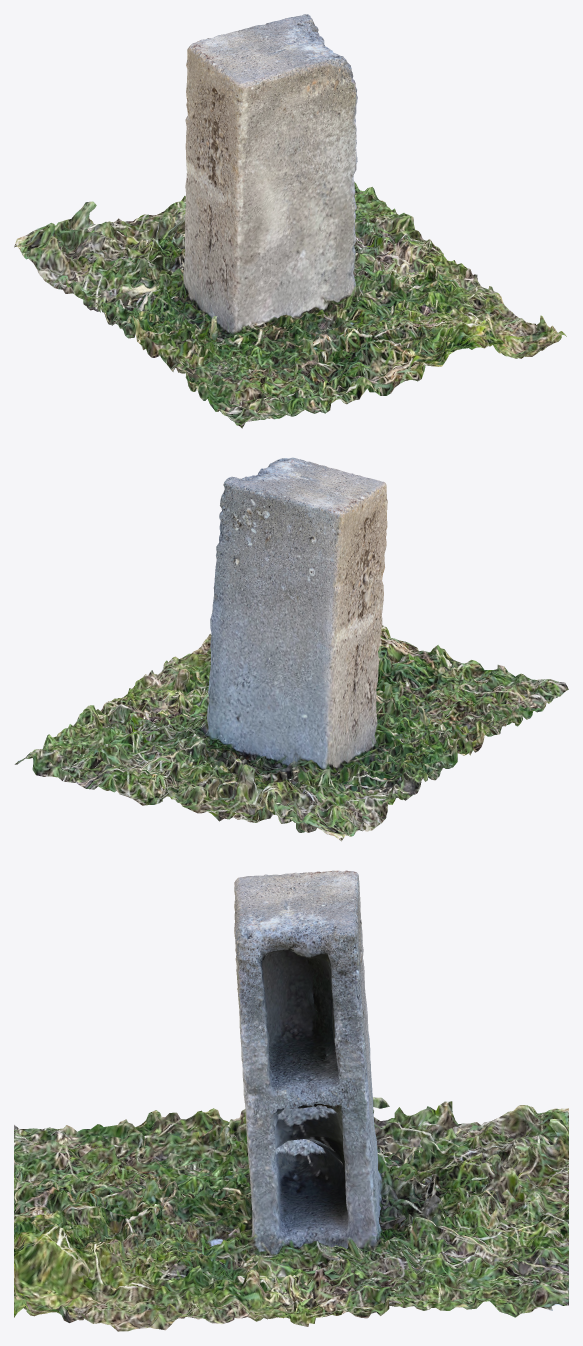
3 views of the same model, one above another, from view 1: azimuth 30°, elevation 25°; view 2: azimuth 150°, elevation 25°; view 3: azimuth 270°, elevation 25° (orthographic). The views are drawn at different scales.
Parts seen in each view (by area): view 1: Object_4; view 2: Object_4; view 3: Object_4.
Part boxes in pixels (<box>): Object_4: <box>14,14,566,428</box>; Object_4: <box>14,457,568,841</box>; Object_4: <box>14,870,568,1331</box>.
Size of the model in its own units: 0.7132 by 0.5688 by 0.8706.
1 material, 1 textured.
